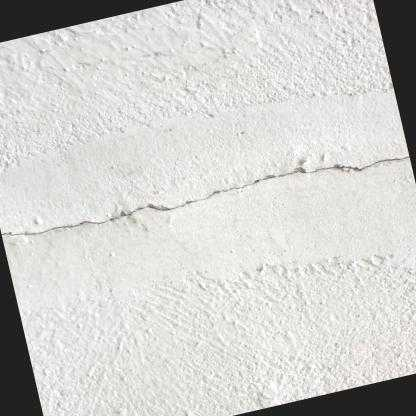crack: (0, 152, 410, 240)
